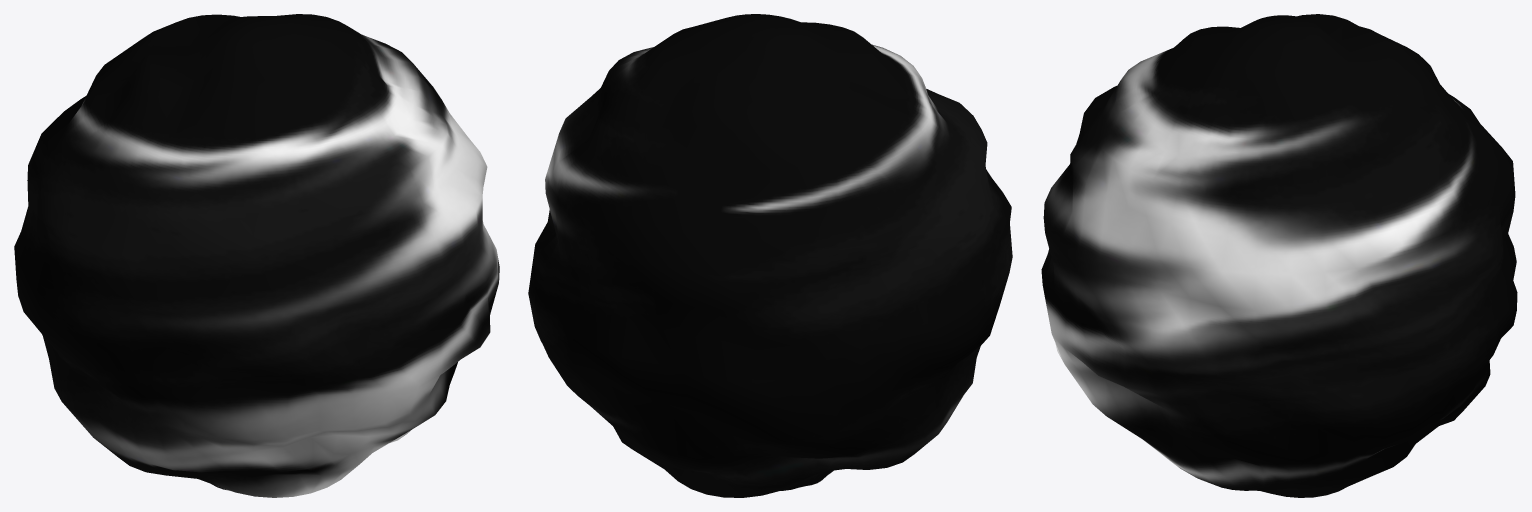
File: 0033_HT_FX_BZDaKeLaiYi_qiliu.glb
3 views of the same model, side by side, from view 1: azimuth 30°, elevation 25°; view 2: azimuth 150°, elevation 25°; view 3: azimuth 270°, elevation 25° (orthographic).
Size of the model in its own units: 2.18 by 2.2 by 2.15.
Materials: 1 (1 with a texture image).
